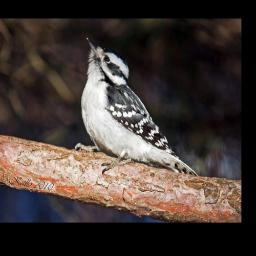Woodpecker: (71, 34, 198, 176)
